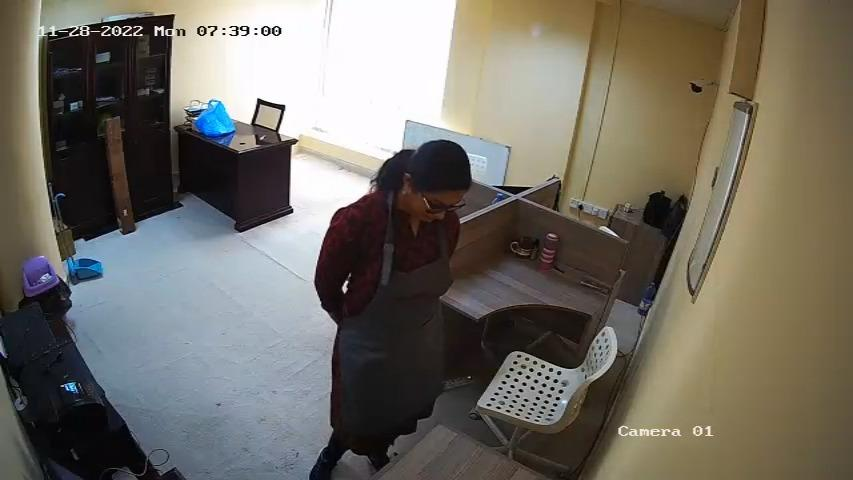apron: (338, 225, 454, 403)
